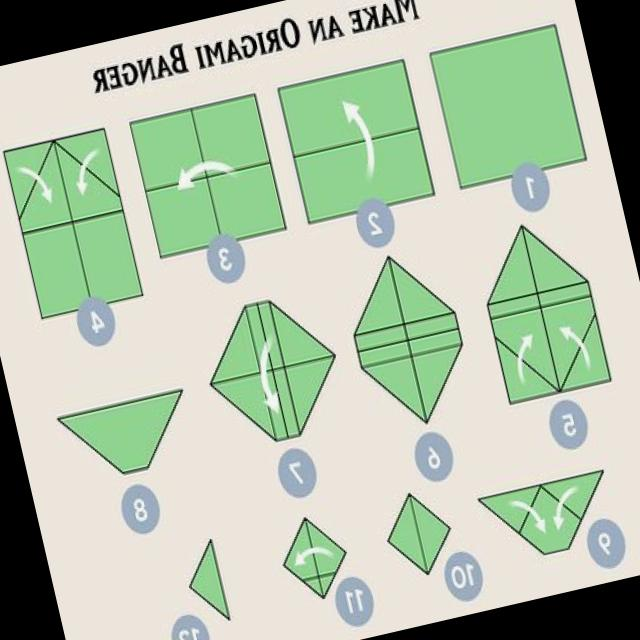arrow: (342, 102, 374, 178), (177, 161, 233, 190), (258, 339, 279, 413), (558, 326, 590, 368), (18, 167, 51, 202), (509, 500, 545, 532), (553, 486, 576, 530), (76, 151, 97, 195), (515, 335, 532, 383), (294, 547, 332, 566)
fold-line: (45, 132, 99, 318), (381, 252, 434, 432), (514, 219, 566, 400), (250, 294, 295, 448), (183, 102, 229, 250), (204, 346, 340, 396), (139, 156, 275, 200), (289, 120, 422, 164), (50, 132, 122, 210), (553, 301, 605, 403), (485, 328, 561, 396), (348, 318, 469, 359), (484, 286, 600, 327), (16, 202, 128, 244), (8, 139, 56, 228), (535, 479, 585, 524), (511, 480, 543, 546), (302, 516, 326, 601)
